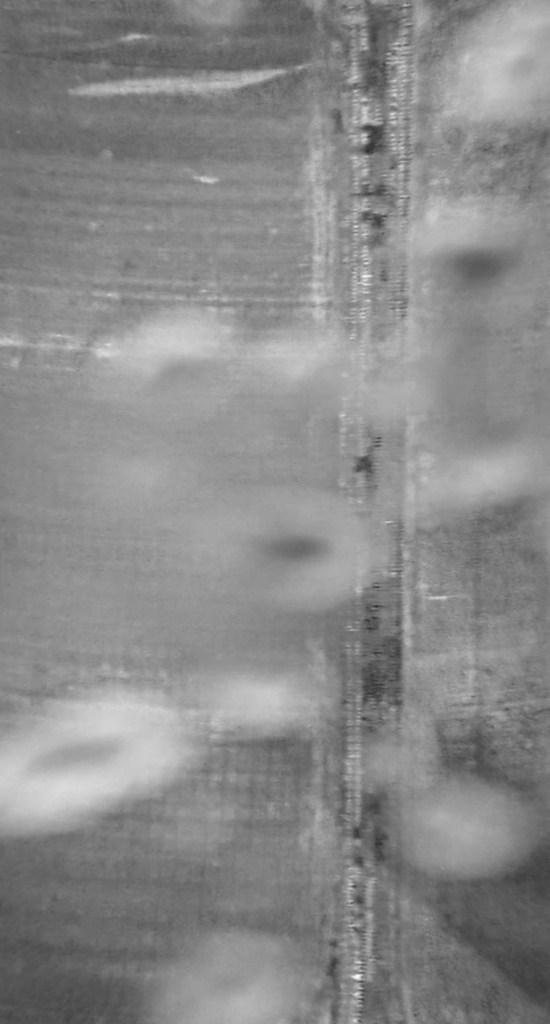splice: (322, 1, 419, 1023)
